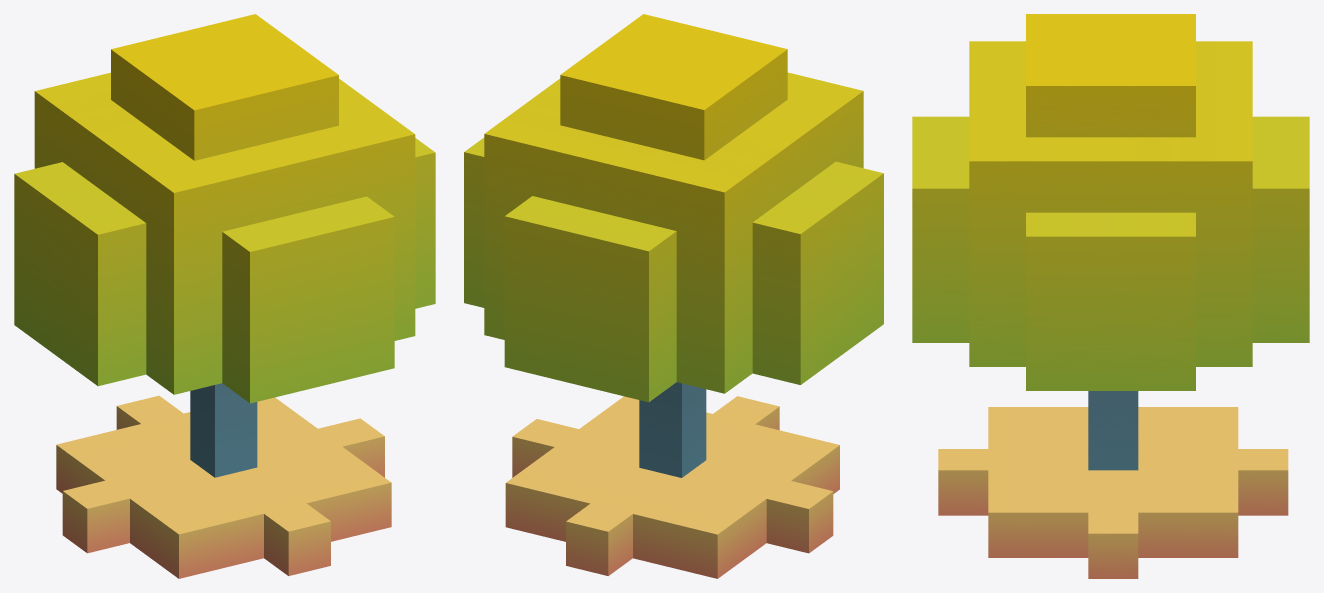
The model's file is Lamp.fbx.
3 views of the same model, side by side, from view 1: azimuth 30°, elevation 25°; view 2: azimuth 150°, elevation 25°; view 3: azimuth 270°, elevation 25° (orthographic). The views are drawn at different scales.
Visible parts, largest first — view 1: Lamp; view 2: Lamp; view 3: Lamp.
Boxes of the visible parts, left/top/right/bottom form: Lamp: left=14, top=14, right=435, bottom=578; Lamp: left=464, top=14, right=883, bottom=578; Lamp: left=912, top=14, right=1309, bottom=578.
Bounding box in the file's own units: 137 × 173 × 137.
